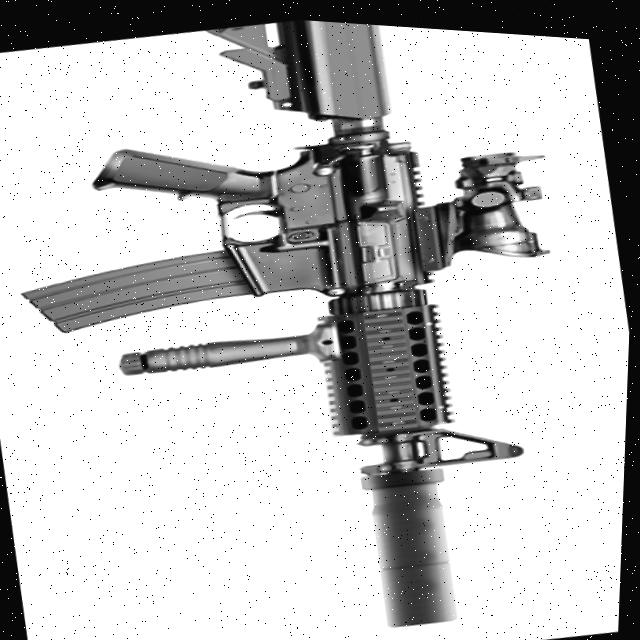firearm: (0, 0, 635, 640)
